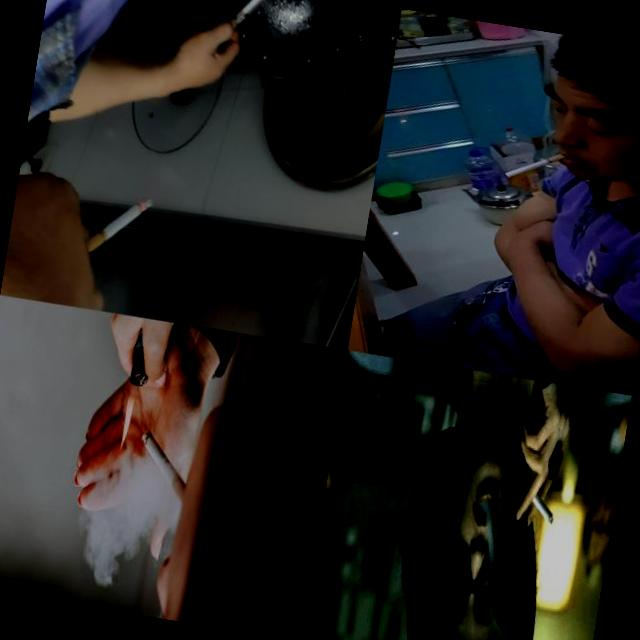smoke: (64, 305, 215, 528), (496, 378, 584, 534), (83, 186, 154, 262), (504, 146, 566, 187)
